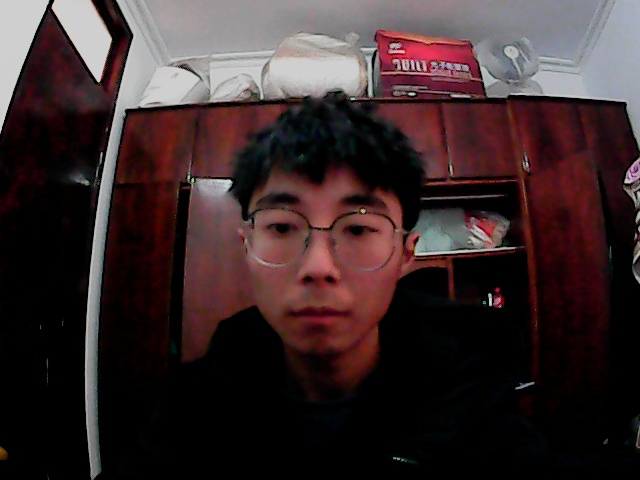face: (226, 96, 427, 365)
